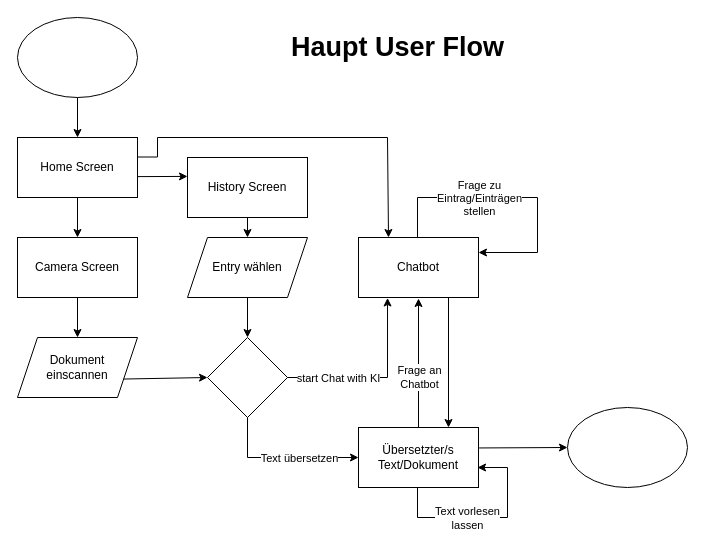
Some shapes in this 705 by 548 pixel diagram are drawn without their labels. The shapes that lost their labels are listed below. From the top down, each one's centre as x and y in pixels, then its label:
At (77,57): "Start".
At (247,377): "Action?".
At (627,447): "End".
